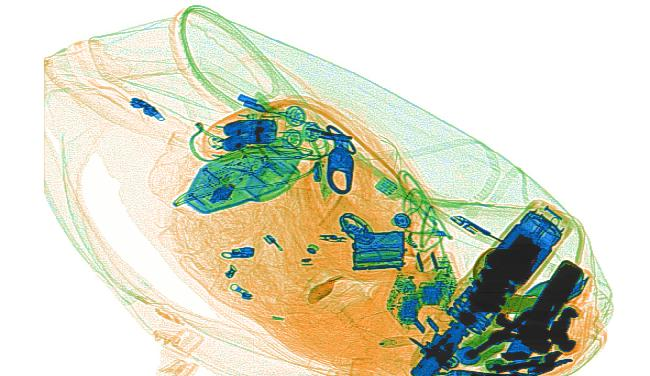battery: (222, 119, 249, 153)
